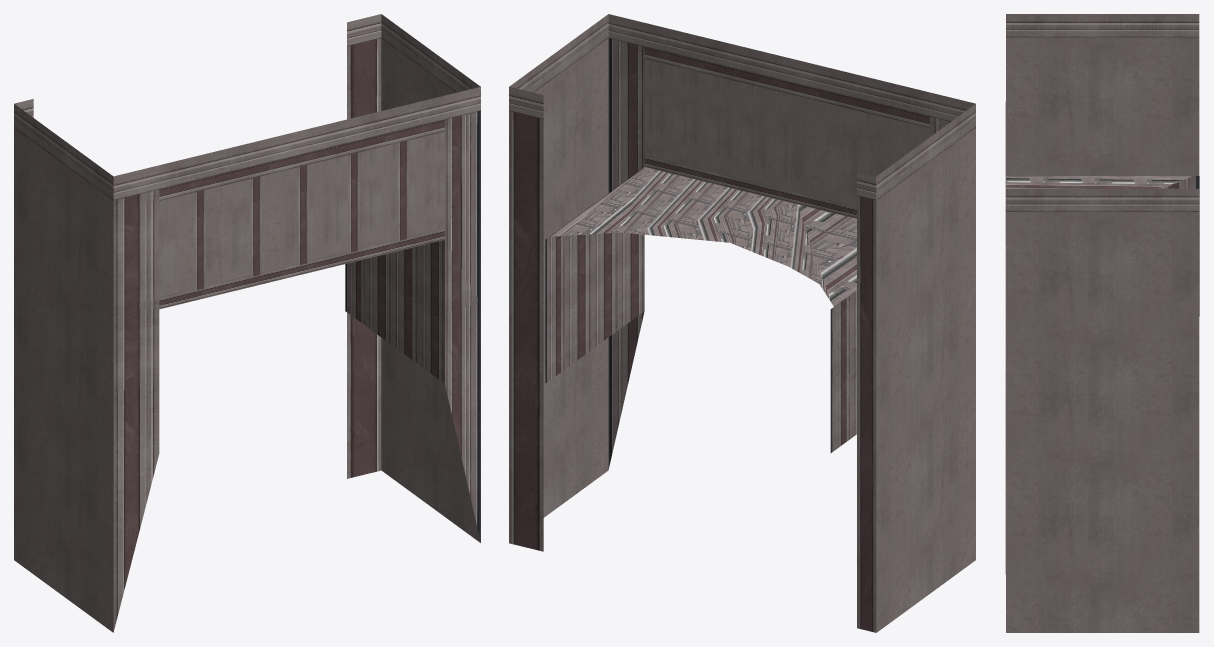
Rendered from Cor1_bldg_Minor_hall_04.fbx.
3 views of the same model, side by side, from view 1: azimuth 30°, elevation 25°; view 2: azimuth 150°, elevation 25°; view 3: azimuth 270°, elevation 25° (orthographic). The views are drawn at different scales.
Visible parts, largest first — view 1: Minor_hall_4, cube110, cube109, cube108, cube, cube107; view 2: Minor_hall_4; view 3: Minor_hall_4.
Part boxes in pixels (box(x1,y1,x2,y2)): Minor_hall_4: box(14, 14, 480, 632); cube110: box(194, 190, 205, 290); cube109: box(397, 140, 408, 241); cube108: box(348, 152, 359, 253); cube: box(297, 164, 308, 265); cube107: box(250, 176, 261, 276); Minor_hall_4: box(509, 14, 975, 632); Minor_hall_4: box(1005, 14, 1199, 632).
Size of what is drawn, in the model's own units: 3200 by 3800 by 1511.
